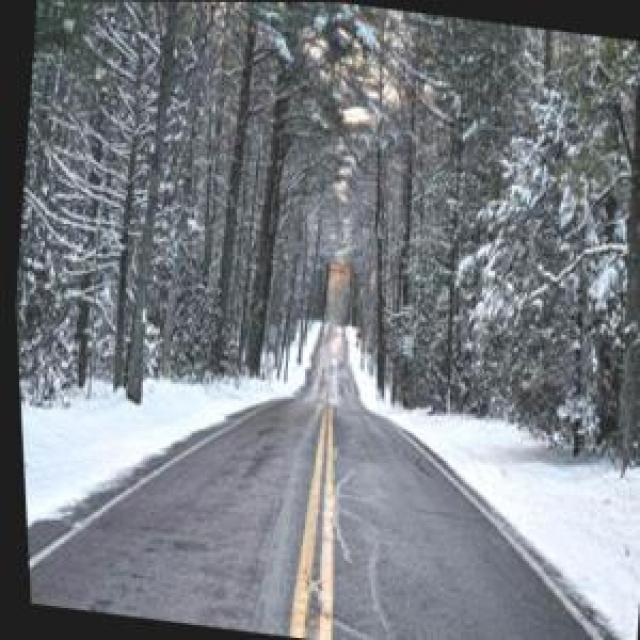ice-road: (21, 319, 592, 640)
